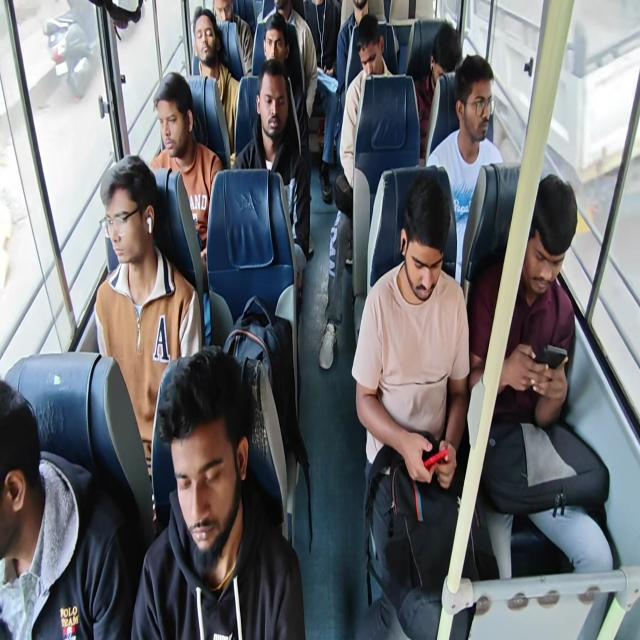person: (164, 338, 268, 640), (0, 360, 77, 629), (404, 188, 482, 430), (520, 182, 586, 420), (455, 61, 512, 231), (94, 160, 162, 282), (154, 72, 217, 178), (358, 16, 388, 100), (261, 72, 286, 171), (341, 0, 384, 56), (434, 16, 459, 103), (255, 18, 290, 76), (314, 0, 340, 69), (189, 6, 220, 60), (265, 0, 295, 27), (214, 0, 236, 32)
